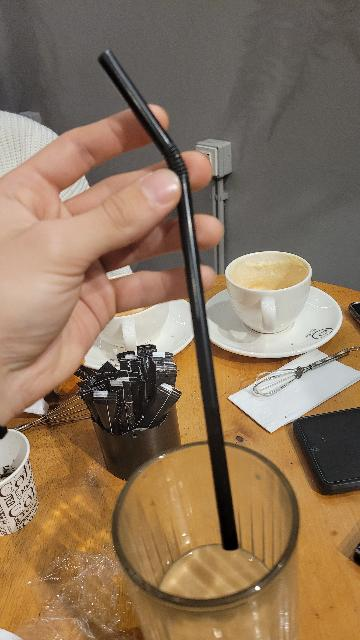Plastik: (99, 52, 241, 549)
